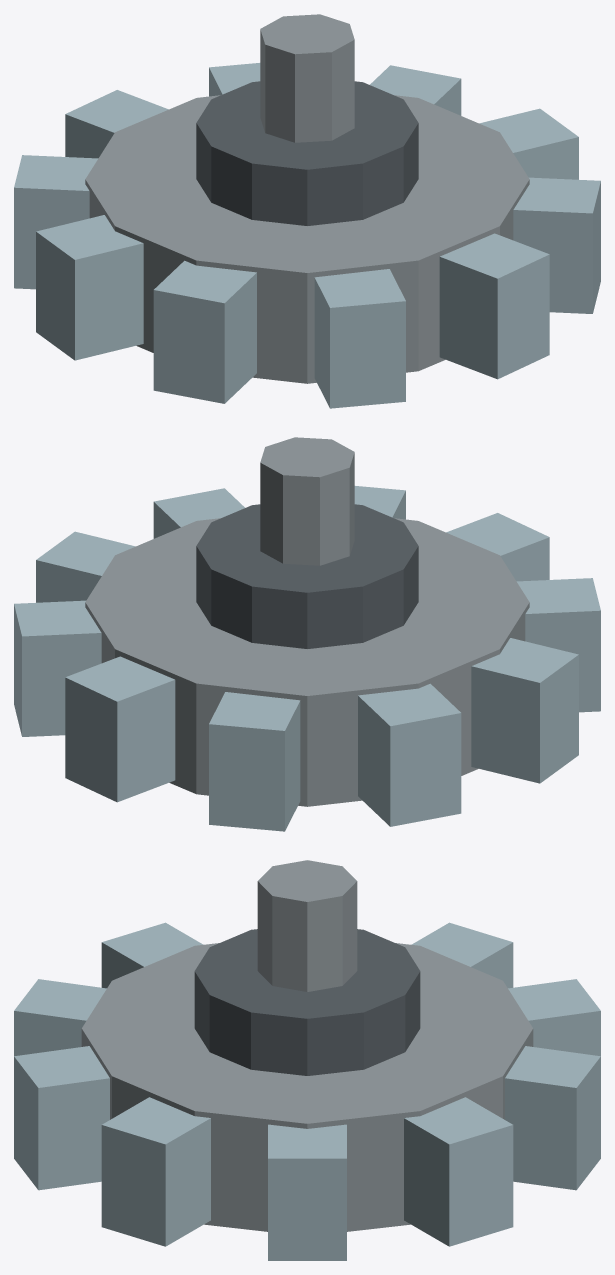
Rendered from machine-part.glb.
3 renders of one model, top to bottom at view 1: azimuth 30°, elevation 25°; view 2: azimuth 150°, elevation 25°; view 3: azimuth 270°, elevation 25°, orthographic.
Visible parts, largest first — view 1: machine-part / Iron, machine-part / Machined steel, machine-part / Graphite enamel; view 2: machine-part / Iron, machine-part / Machined steel, machine-part / Graphite enamel; view 3: machine-part / Iron, machine-part / Machined steel, machine-part / Graphite enamel.
Boxes of the visible parts, x1,y1,x2,y2 form: machine-part / Iron: [14, 63, 600, 408]; machine-part / Machined steel: [85, 14, 529, 383]; machine-part / Graphite enamel: [196, 81, 418, 225]; machine-part / Iron: [14, 486, 600, 831]; machine-part / Machined steel: [85, 437, 529, 806]; machine-part / Graphite enamel: [196, 504, 418, 648]; machine-part / Iron: [14, 922, 600, 1260]; machine-part / Machined steel: [81, 860, 533, 1231]; machine-part / Graphite enamel: [194, 929, 420, 1075].
Bounding box in the file's own units: 0.262 × 0.127 × 0.26.
